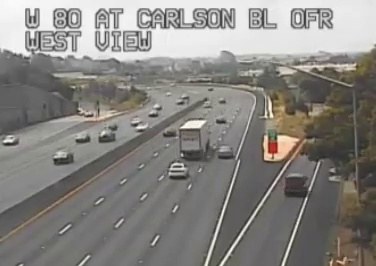car: (285, 174, 307, 195), (168, 163, 187, 178), (217, 145, 233, 157)
truck: (178, 119, 209, 157)
